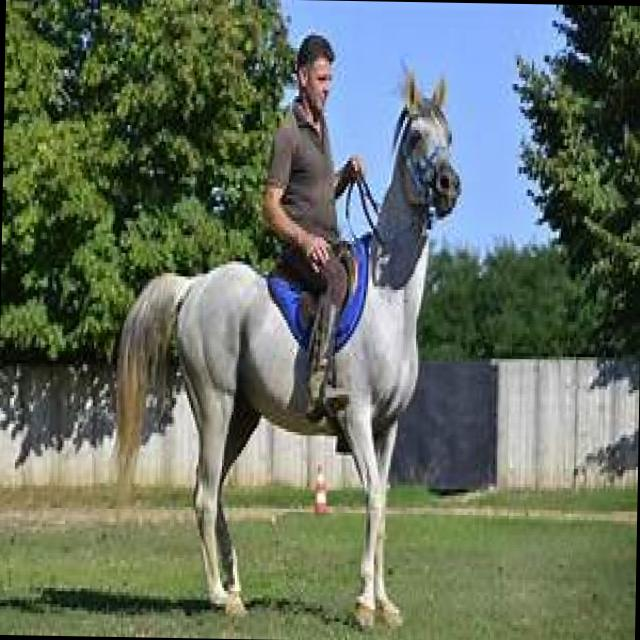animal: (103, 57, 467, 640)
